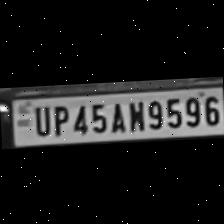4: (67, 99, 87, 134)
5: (86, 97, 108, 132), (162, 93, 182, 129)
6: (200, 90, 222, 126)
9: (143, 94, 163, 130), (181, 92, 201, 126)
A: (106, 97, 126, 133)
N: (123, 96, 143, 132)
P: (49, 100, 69, 134)
U: (30, 100, 50, 136)
